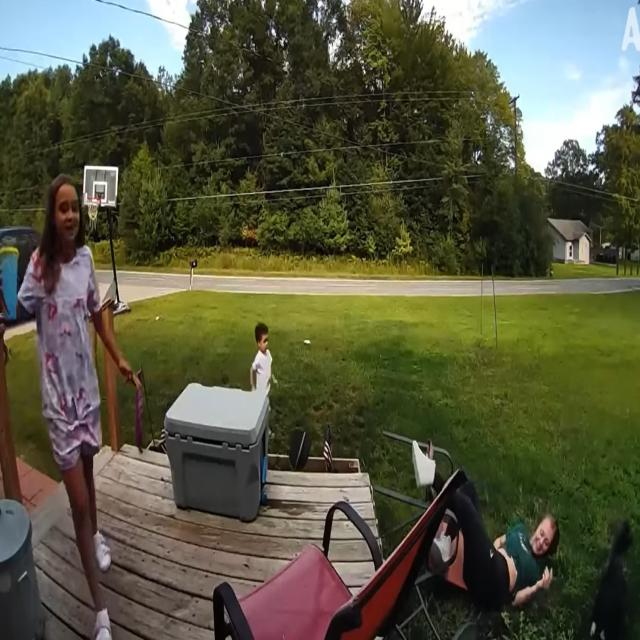fallen: (433, 480, 559, 611)
standing: (18, 175, 139, 639)
